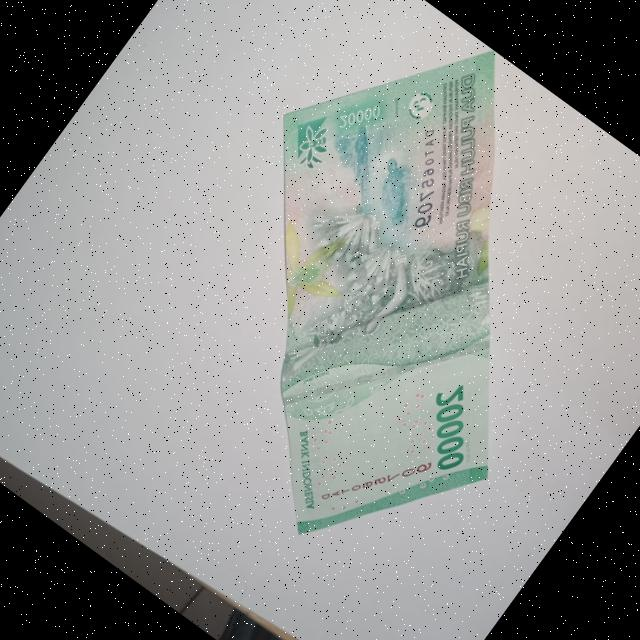20K: (75, 0, 640, 614)
